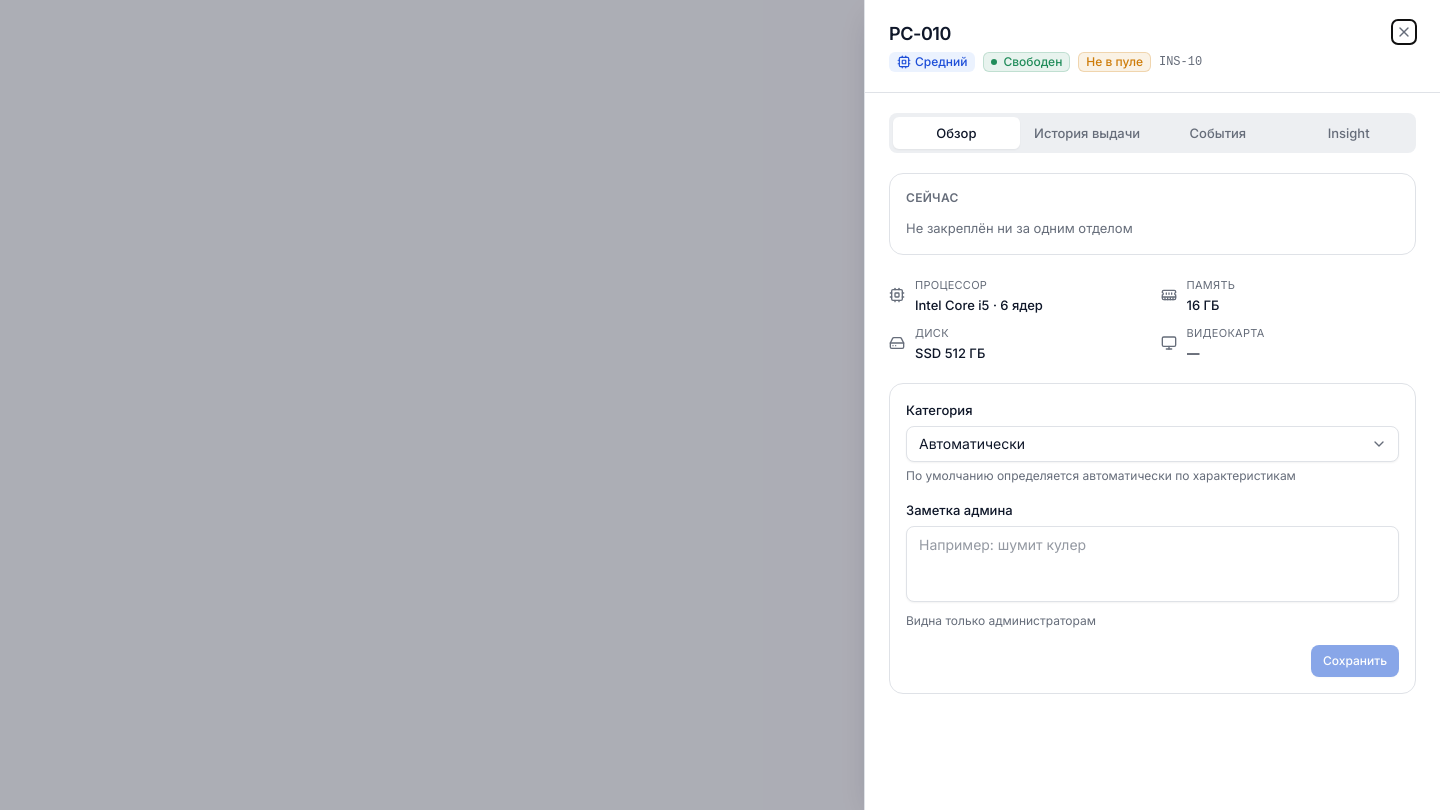
Test: ComputerHistorySheet › вкладки › «События»: пустое состояние и лента без имени ПК
What coordinates should you click on to do the following:
click the button "События"
I would click on:
 (1218, 133)
Its box is [1154,117,1281,149].
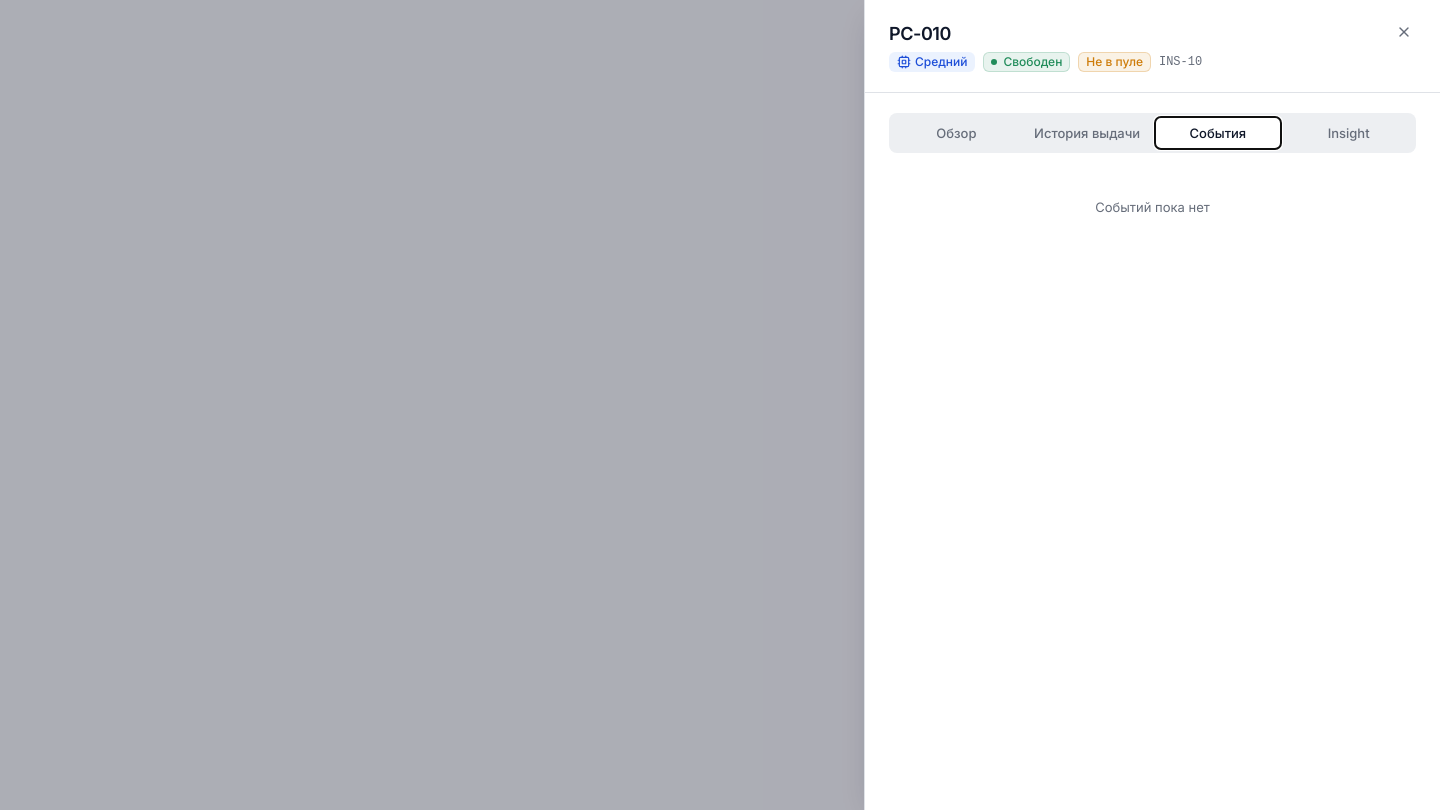
Check: the text "Событий пока нет" is shown, box [1095,199,1210,215]
